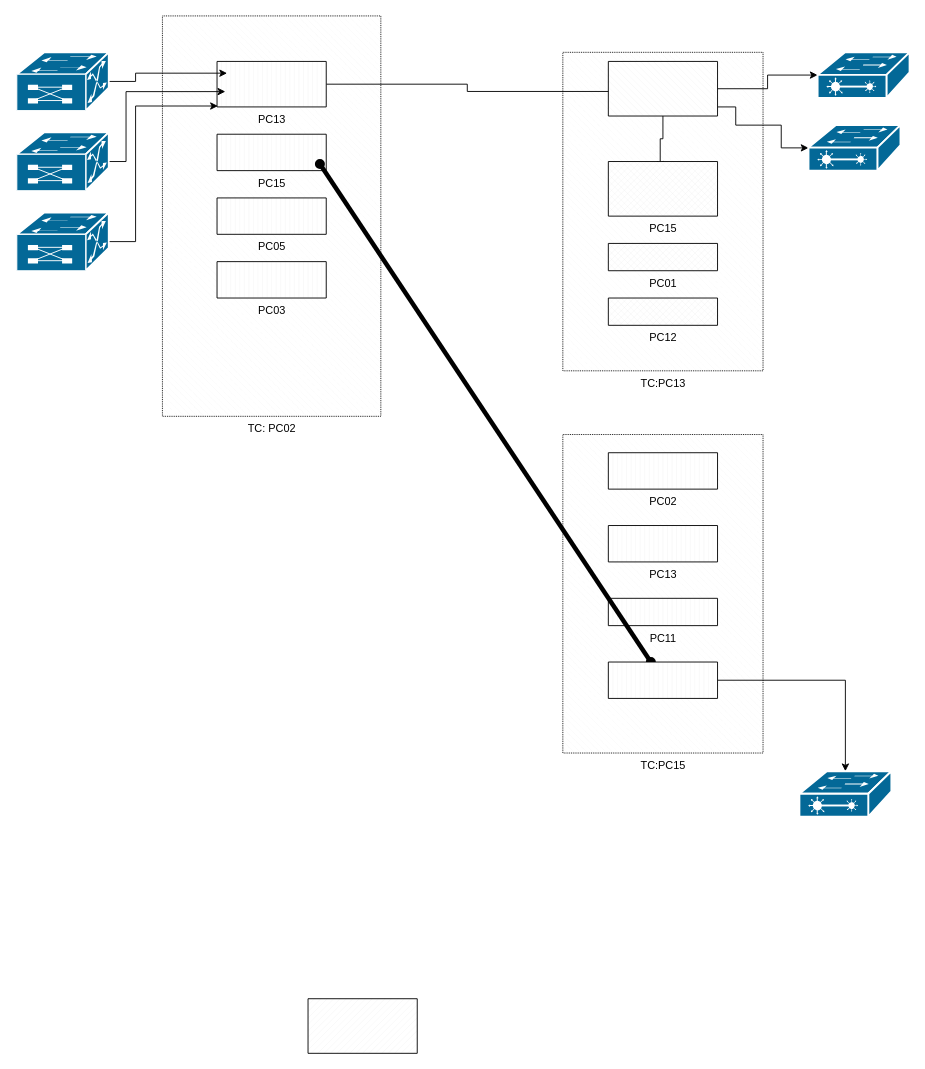
The diagram is 925 pixels wide and 1069 high, and some of its shapes have lost their labels. The centre of each missing label's shape, as x and y in pixels:
"PC13PC02" goes at (662,88).
"PC15TCb" goes at (662,679).
